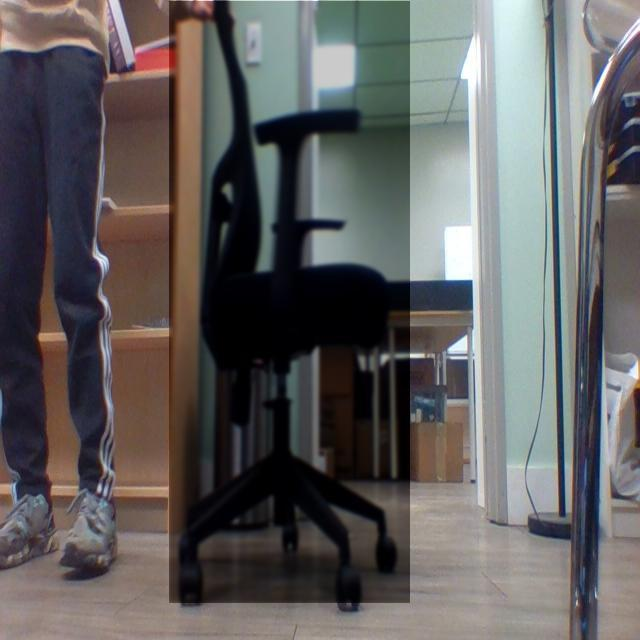chair: (169, 0, 409, 613)
